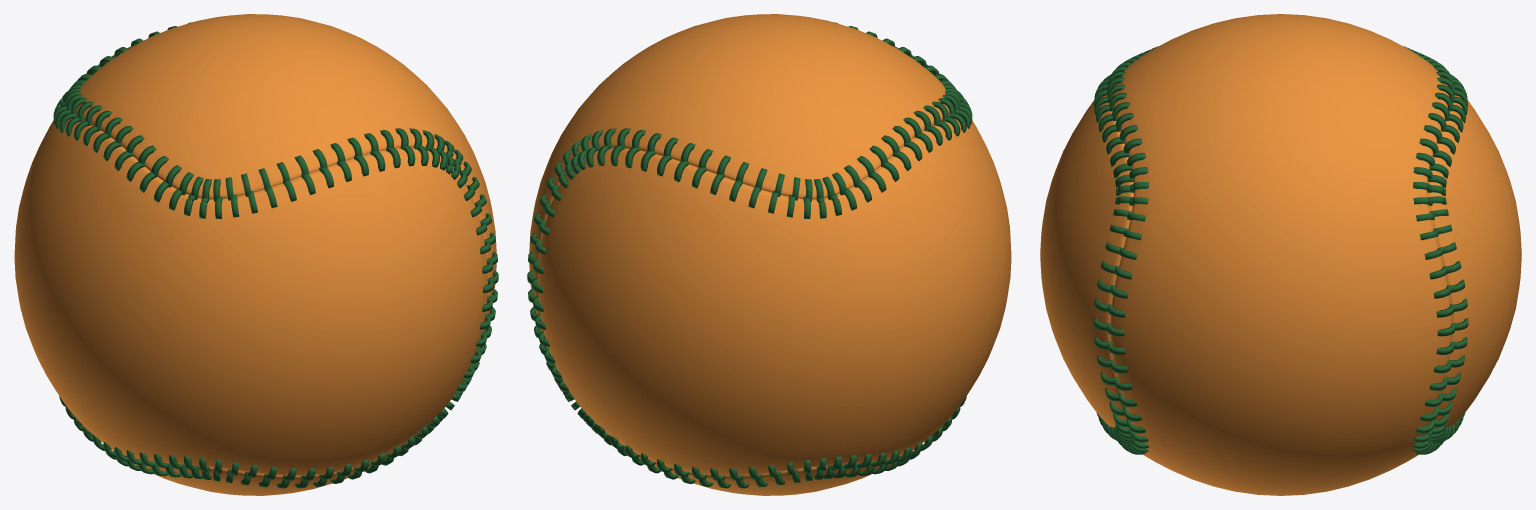
The model's file is BaseBall 4.0.fbx.
The picture shows the model from 3 angles, left to right: view 1: azimuth 30°, elevation 25°; view 2: azimuth 150°, elevation 25°; view 3: azimuth 270°, elevation 25°; orthographic projection.
Visible parts, largest first — view 1: Curve2; view 2: Curve2; view 3: Curve2.
Boxes of the visible parts, x1,y1,x2,y2 form: Curve2: [14, 14, 498, 495]; Curve2: [527, 14, 1011, 495]; Curve2: [1040, 14, 1521, 495].
Size of the model in its own units: 8440 by 8440 by 8440.
